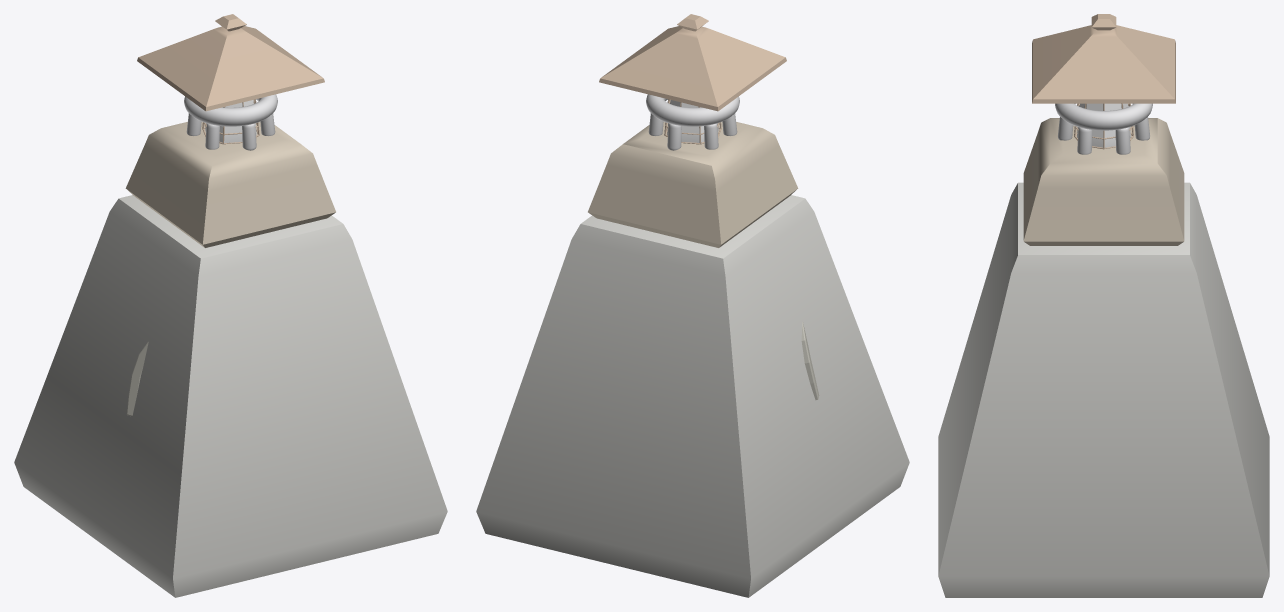
The model's file is Lighthouse_Keiko.glb.
The picture shows the model from 3 angles, left to right: view 1: azimuth 30°, elevation 25°; view 2: azimuth 150°, elevation 25°; view 3: azimuth 270°, elevation 25°; orthographic projection. The views are drawn at different scales.
Parts seen in each view (by area): view 1: 平面, 平面.001, 平面.004, 环体, 柱体.004, 平面.005; view 2: 平面, 平面.001, 平面.004, 环体, 柱体.004; view 3: 平面, 平面.001, 平面.004, 环体, 柱体.004, 平面.002.
Part boxes in pixels (box(x1,y1,x2,y2)): 平面: box(14, 195, 447, 597); 平面.001: box(125, 121, 335, 247); 平面.004: box(137, 14, 324, 111); 环体: box(184, 94, 277, 126); 柱体.004: box(186, 113, 275, 150); 平面.005: box(126, 341, 148, 416); 平面: box(476, 195, 909, 597); 平面.001: box(588, 121, 798, 247); 平面.004: box(599, 14, 786, 111); 环体: box(646, 94, 739, 126); 柱体.004: box(648, 100, 737, 150); 平面: box(938, 182, 1269, 597); 平面.001: box(1023, 118, 1184, 245); 平面.004: box(1032, 14, 1175, 103); 环体: box(1055, 103, 1152, 130); 柱体.004: box(1058, 105, 1149, 154); 平面.002: box(1077, 103, 1130, 147).
Bounding box in the file's own units: 1.93 × 3.38 × 1.93.
